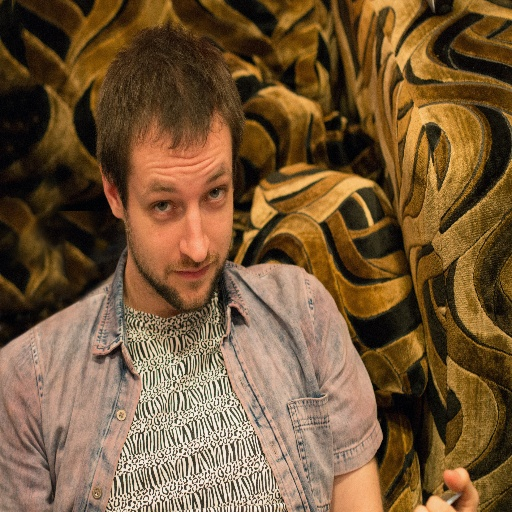hand: (413, 464, 478, 511)
